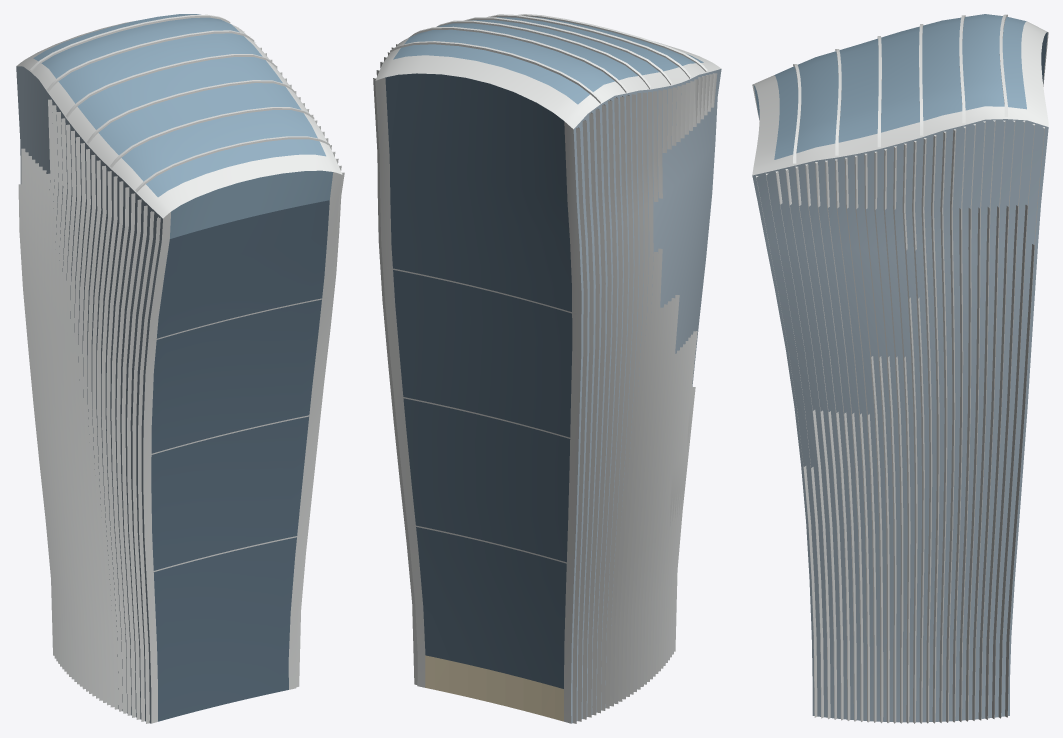
The model's file is london-20-fenchurch-street.glb.
3 renders of one model, left to right at view 1: azimuth 30°, elevation 25°; view 2: azimuth 150°, elevation 25°; view 3: azimuth 270°, elevation 25°, orthographic. The views are drawn at different scales.
Visible parts, largest first — view 1: 20 Fenchurch Street; view 2: 20 Fenchurch Street; view 3: 20 Fenchurch Street.
Boxes of the visible parts, <box> form: 20 Fenchurch Street: <box>16,14,344,723</box>; 20 Fenchurch Street: <box>373,14,721,723</box>; 20 Fenchurch Street: <box>752,14,1048,723</box>.
Bounding box in the file's own units: 60.2 × 160 × 67.78.
